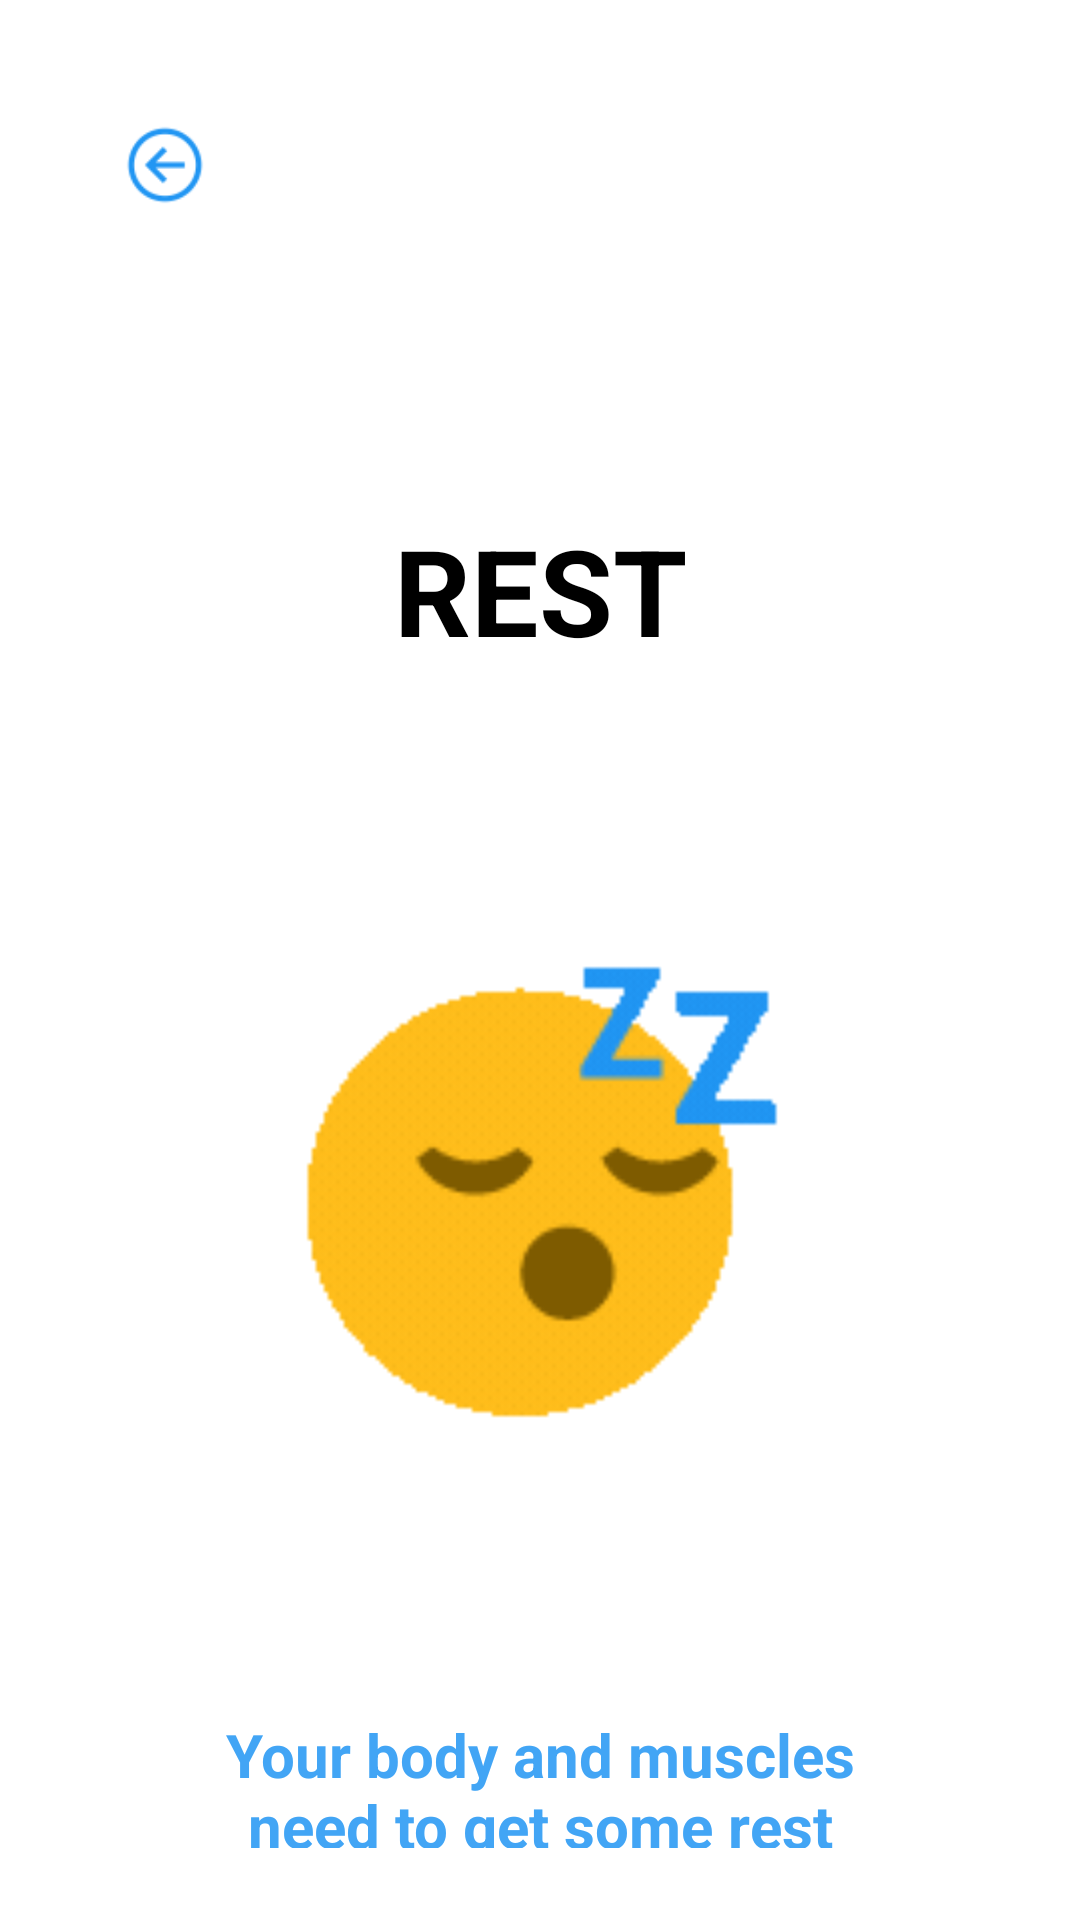

Icons on this 1080px x 1920px Android screen, each with the point to tap as [x,y]:
backbutton: [165,165]
